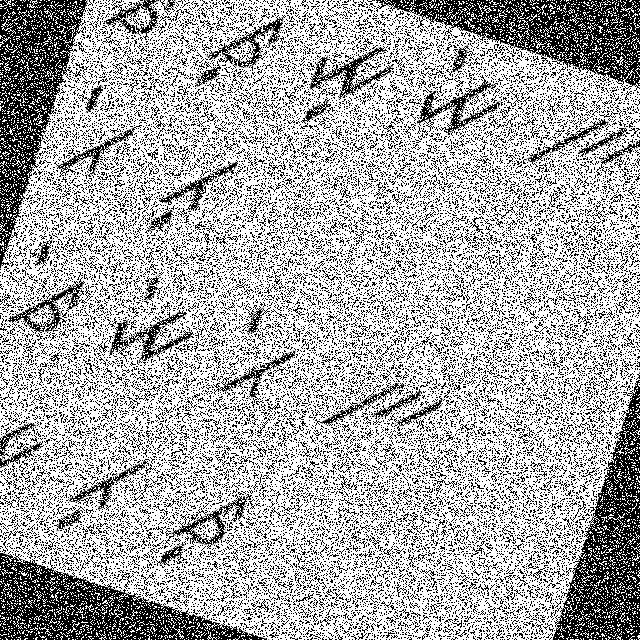be: (49, 68, 154, 195), (208, 294, 314, 418)
bu: (45, 422, 159, 556), (140, 132, 252, 258)
ce: (0, 217, 105, 348), (93, 0, 205, 51)
cu: (152, 459, 262, 592), (188, 0, 294, 109)
me: (101, 256, 217, 385), (408, 34, 520, 154)
mu: (277, 12, 408, 150), (0, 399, 57, 527)
